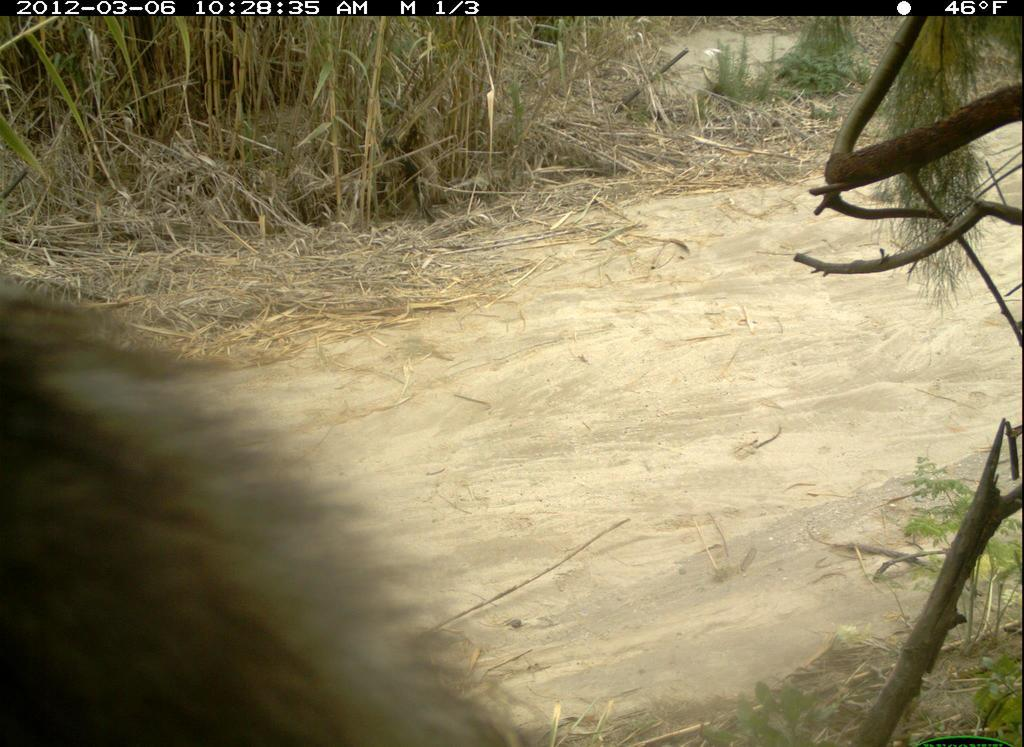coyote: (7, 269, 542, 744)
